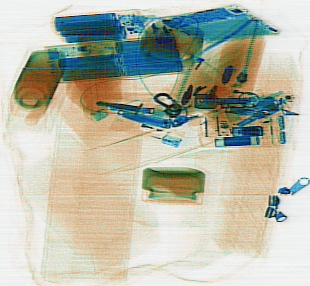lighter: (107, 114, 185, 147)
powerbank: (48, 34, 185, 83), (52, 9, 144, 42)
